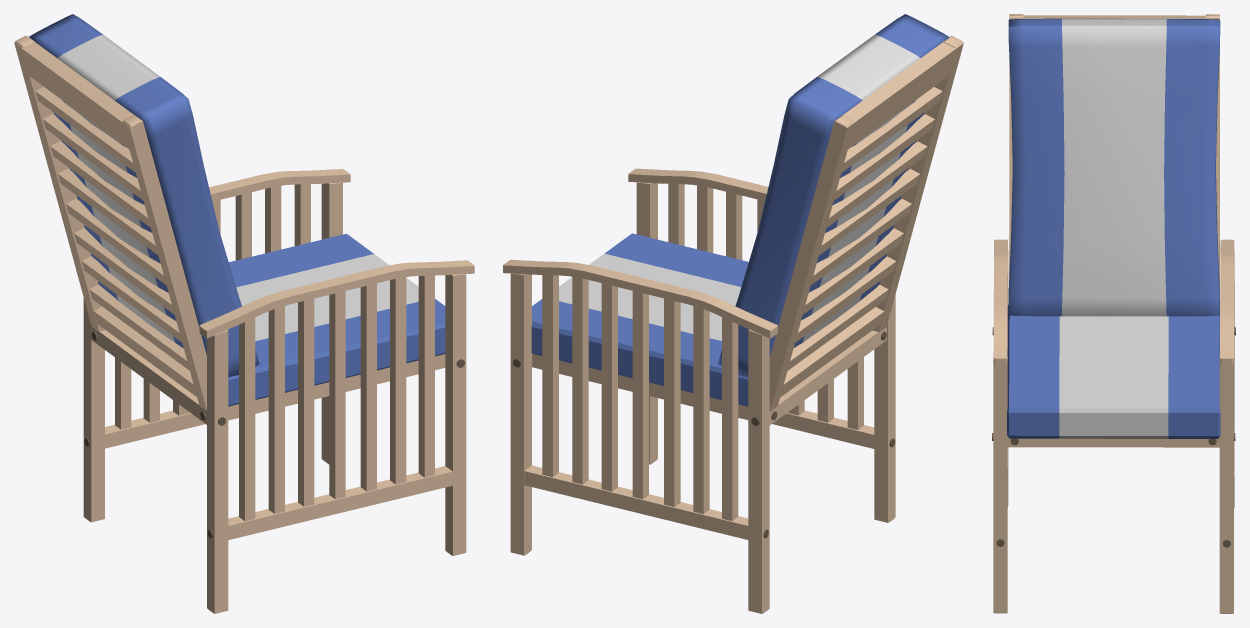
The model's file is Proto_WoodenChair_01.fbx.
The picture shows the model from 3 angles, left to right: view 1: azimuth 30°, elevation 25°; view 2: azimuth 150°, elevation 25°; view 3: azimuth 270°, elevation 25°; orthographic projection. The views are drawn at different scales.
Visible parts, largest first — view 1: WoodenChair_01; view 2: WoodenChair_01; view 3: WoodenChair_01.
Part boxes in pixels (x1=…): WoodenChair_01: x1=14, y1=14, x2=474, y2=613; WoodenChair_01: x1=503, y1=14, x2=963, y2=613; WoodenChair_01: x1=992, y1=14, x2=1235, y2=613.
Size of the model in its own units: 8.35 by 12.17 by 5.76.
